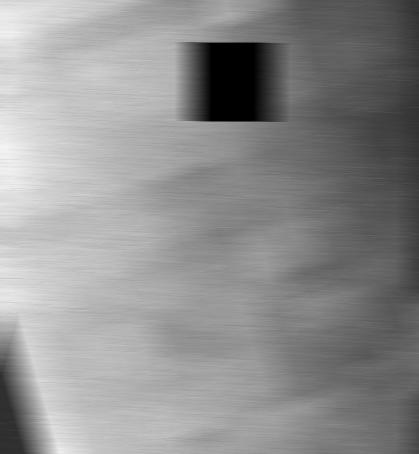Airbag: (0, 0, 418, 454), (409, 0, 419, 454)
